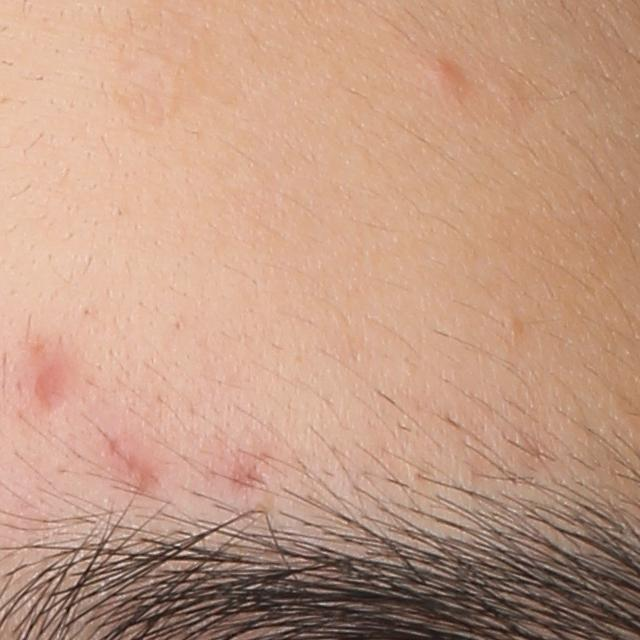atrophic_scar: (35, 358, 73, 414)
comedo: (501, 313, 525, 336)
papule: (427, 56, 464, 91), (120, 465, 152, 494)
